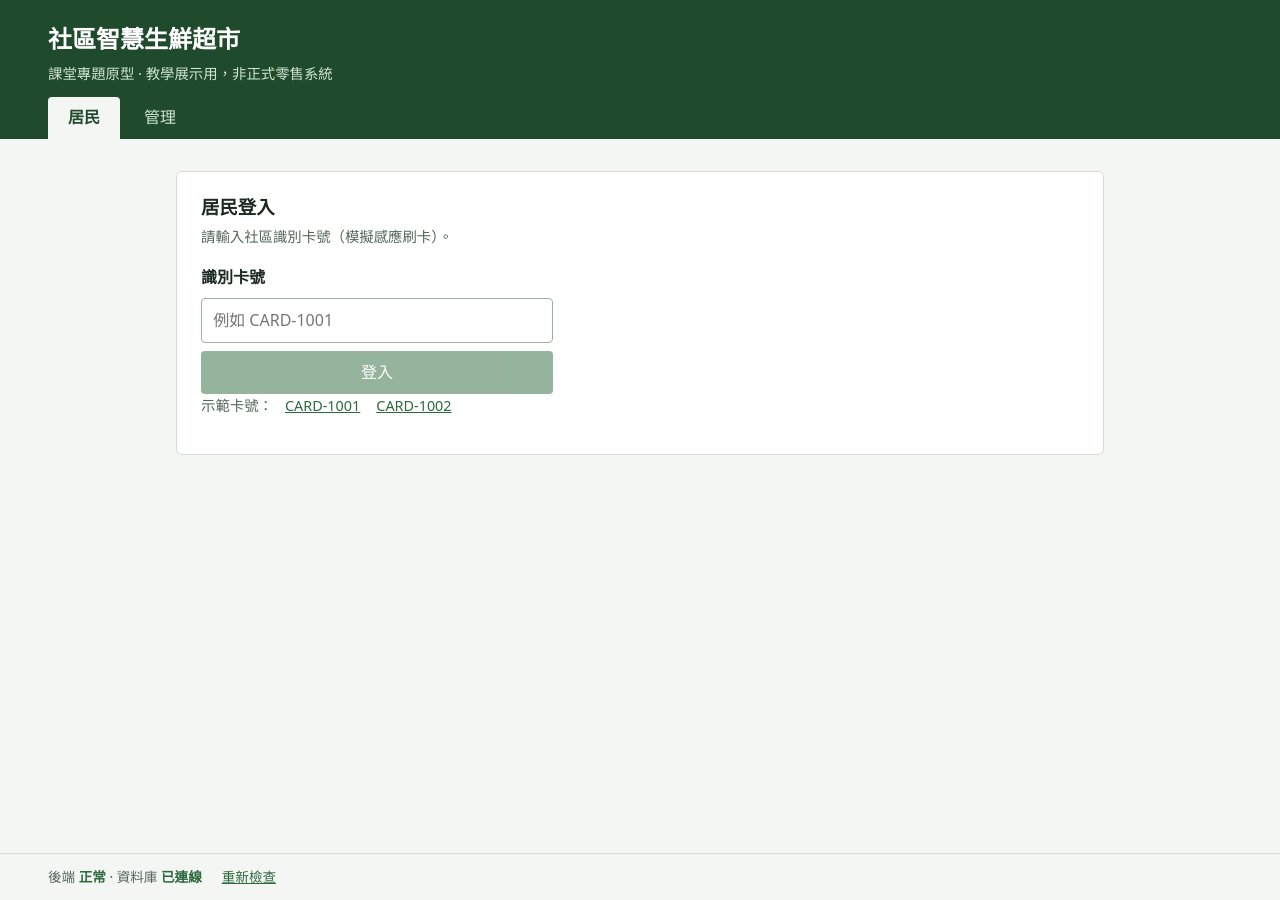
it: disables the button until a card id is typed and while logging in
The width and height of the screenshot is (1280, 900).
Expected: the button "登入" is disabled, [201, 351, 553, 394]
Step 1. Type "CARD-1001" into the field labelled "識別卡號" → (377, 321), box [201, 298, 553, 343]
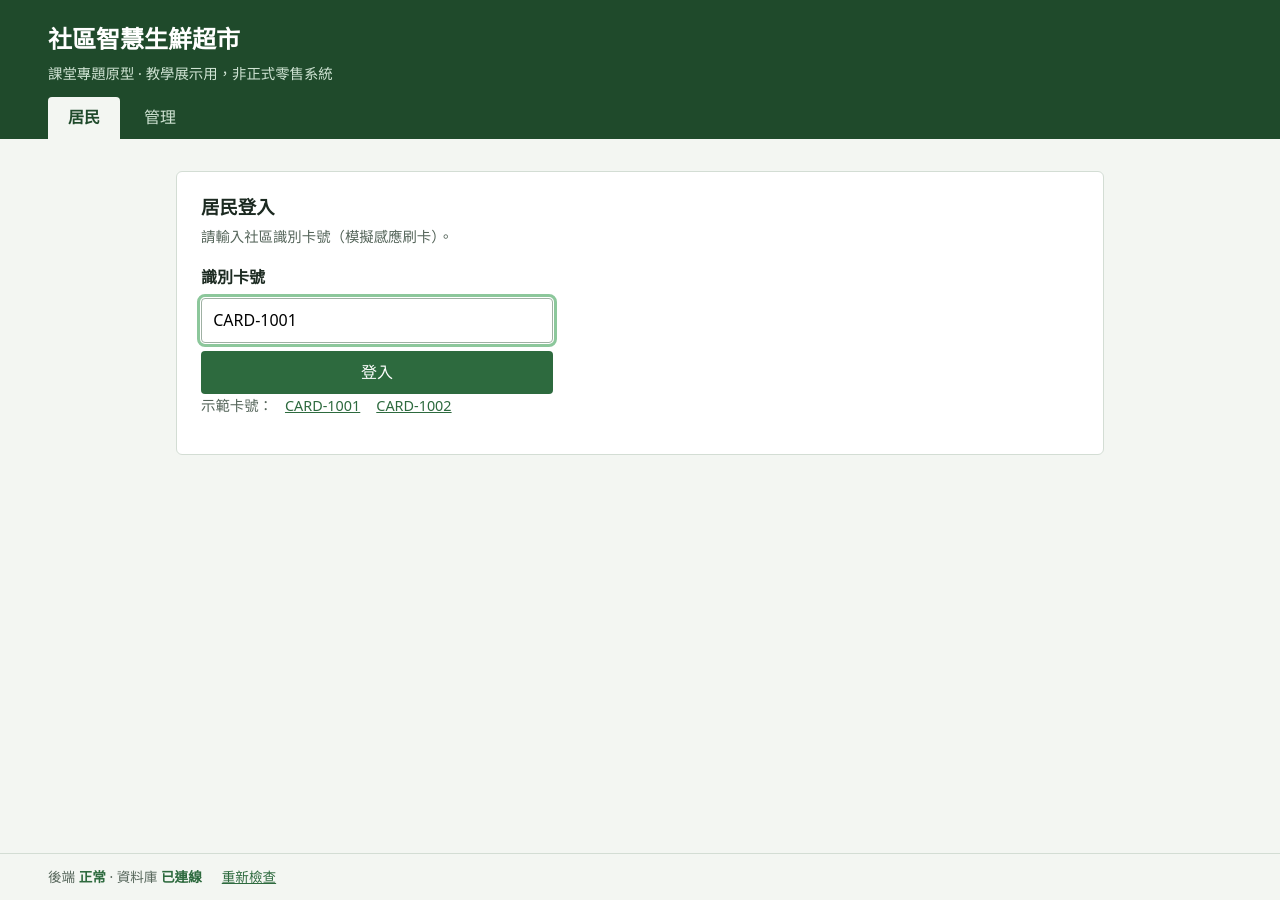
Expected: the button "登入" is enabled
Step 2. Click the button "登入" → (377, 373), box [201, 351, 553, 394]
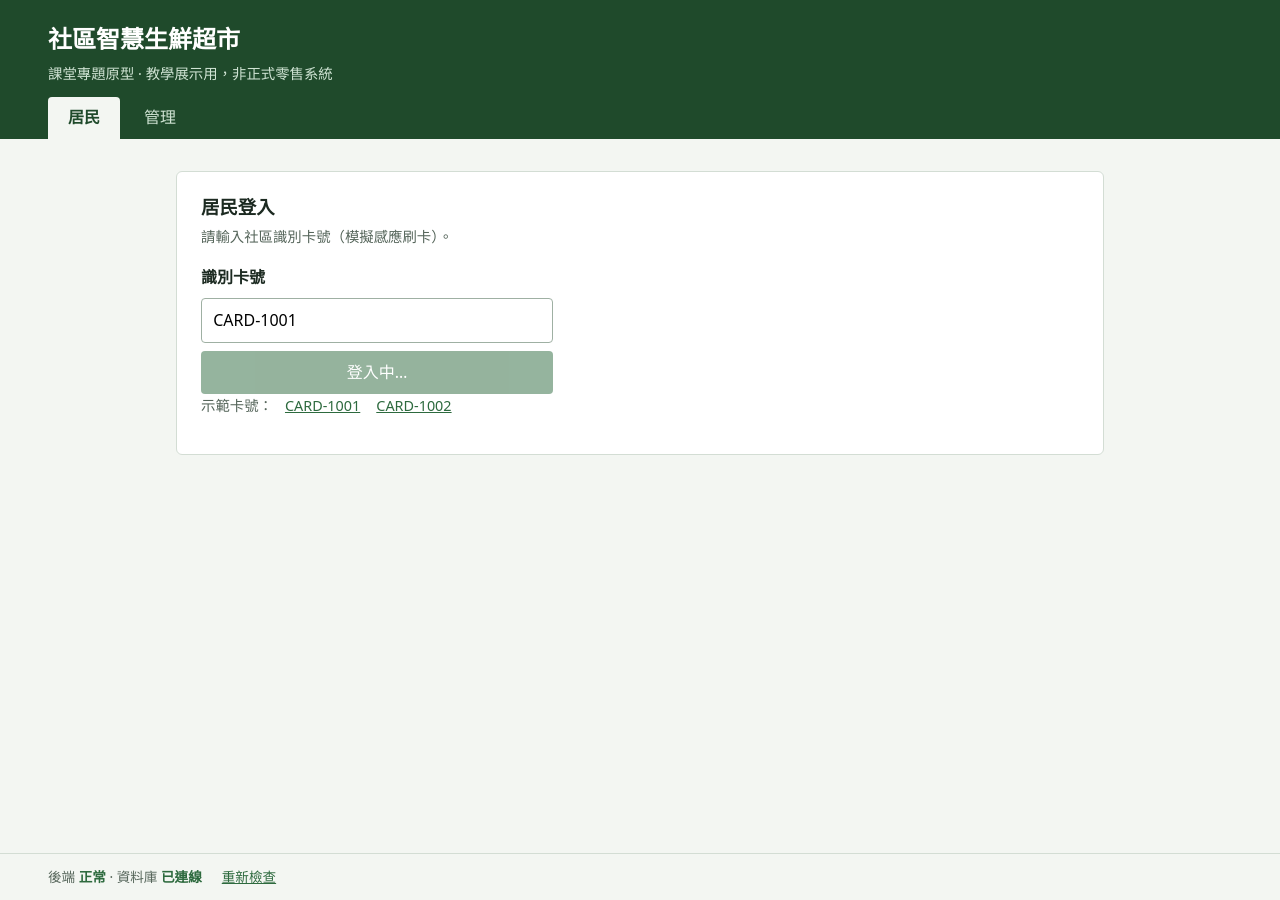
Expected: the button "登入中…" is disabled, [201, 351, 553, 394]
